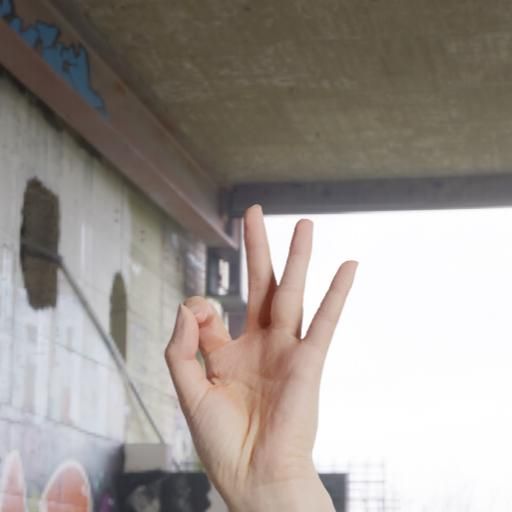F: (160, 194, 370, 512)
